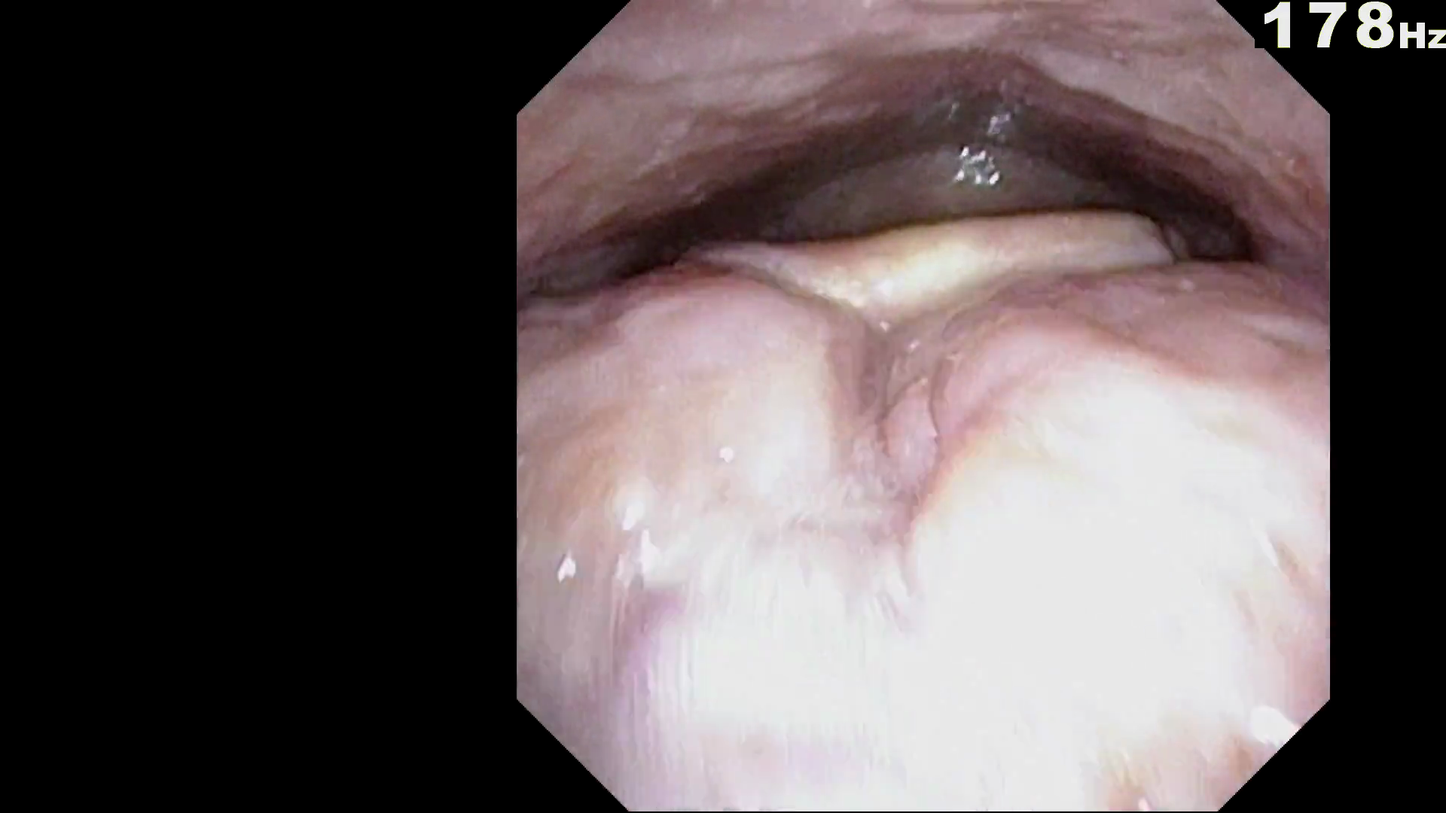epiglottis: (663, 210, 1183, 322)
